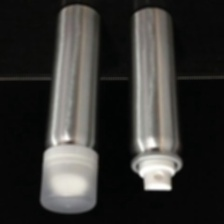aerosol_cans: (34, 1, 108, 218), (125, 2, 185, 194)
